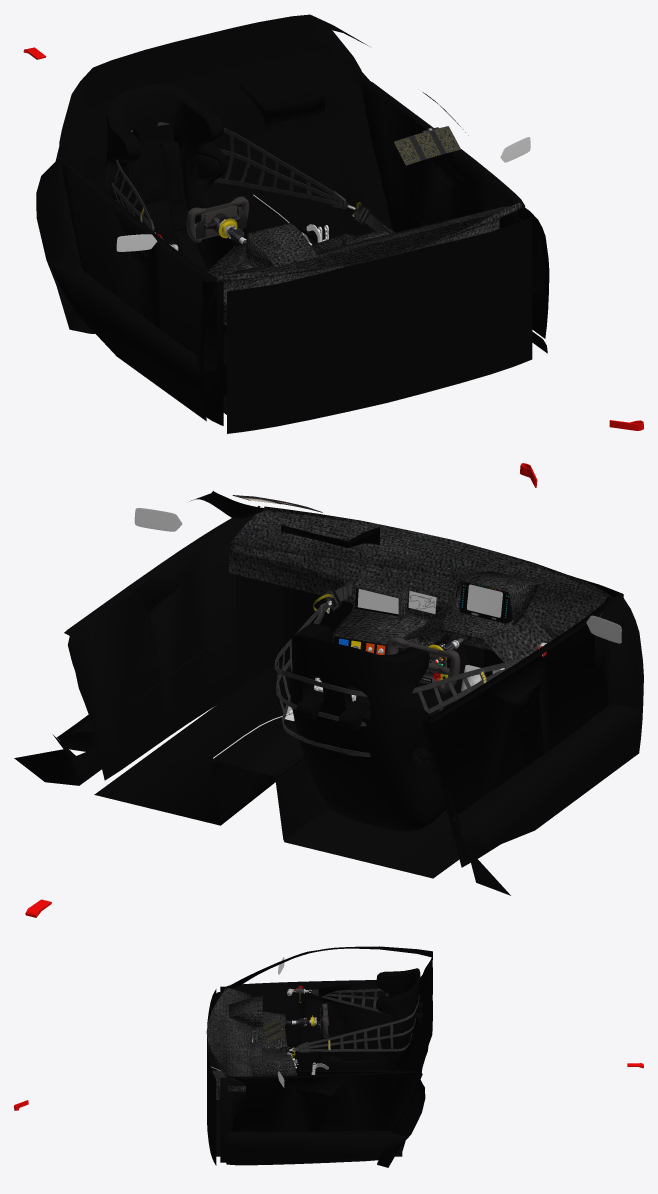
File: gt_brz_int.glb
The picture shows the model from 3 angles, top to bottom: view 1: azimuth 30°, elevation 25°; view 2: azimuth 150°, elevation 25°; view 3: azimuth 270°, elevation 25°; orthographic projection. The views are drawn at different scales.
Parts seen in each view (by area): view 1: Object_92, Object_108, Object_20, Object_16, Object_24, STEER_0, Object_106, Object_32; view 2: Object_92, Object_20, Object_108, Object_16, Object_32, STEER_0, Object_88, Object_26; view 3: Object_92, Object_20, Object_108, Object_16, Object_106, Object_24.
Part boxes in pixels (box(x1,y1,x2,y2)): Object_92: box(36, 14, 549, 433); Object_108: box(104, 83, 241, 332); Object_20: box(203, 202, 522, 325); Object_16: box(111, 122, 407, 252); Object_24: box(393, 126, 460, 165); STEER_0: box(186, 196, 249, 242); Object_106: box(196, 206, 247, 243); Object_32: box(116, 137, 530, 251); Object_92: box(14, 491, 643, 895); Object_20: box(229, 508, 612, 662); Object_108: box(289, 623, 446, 831); Object_16: box(274, 579, 546, 756); Object_32: box(134, 508, 621, 643); STEER_0: box(386, 636, 460, 692); Object_88: box(338, 583, 509, 682); Object_26: box(467, 584, 502, 617); Object_92: box(207, 946, 432, 1167); Object_20: box(206, 985, 296, 1099); Object_108: box(315, 968, 422, 1070); Object_16: box(252, 986, 419, 1064); Object_106: box(285, 1008, 323, 1034); Object_24: box(263, 1018, 283, 1044).
Size of what is drawn, in the model's own units: 1.89 by 1.05 by 4.1.
12 materials, 5 textured.
